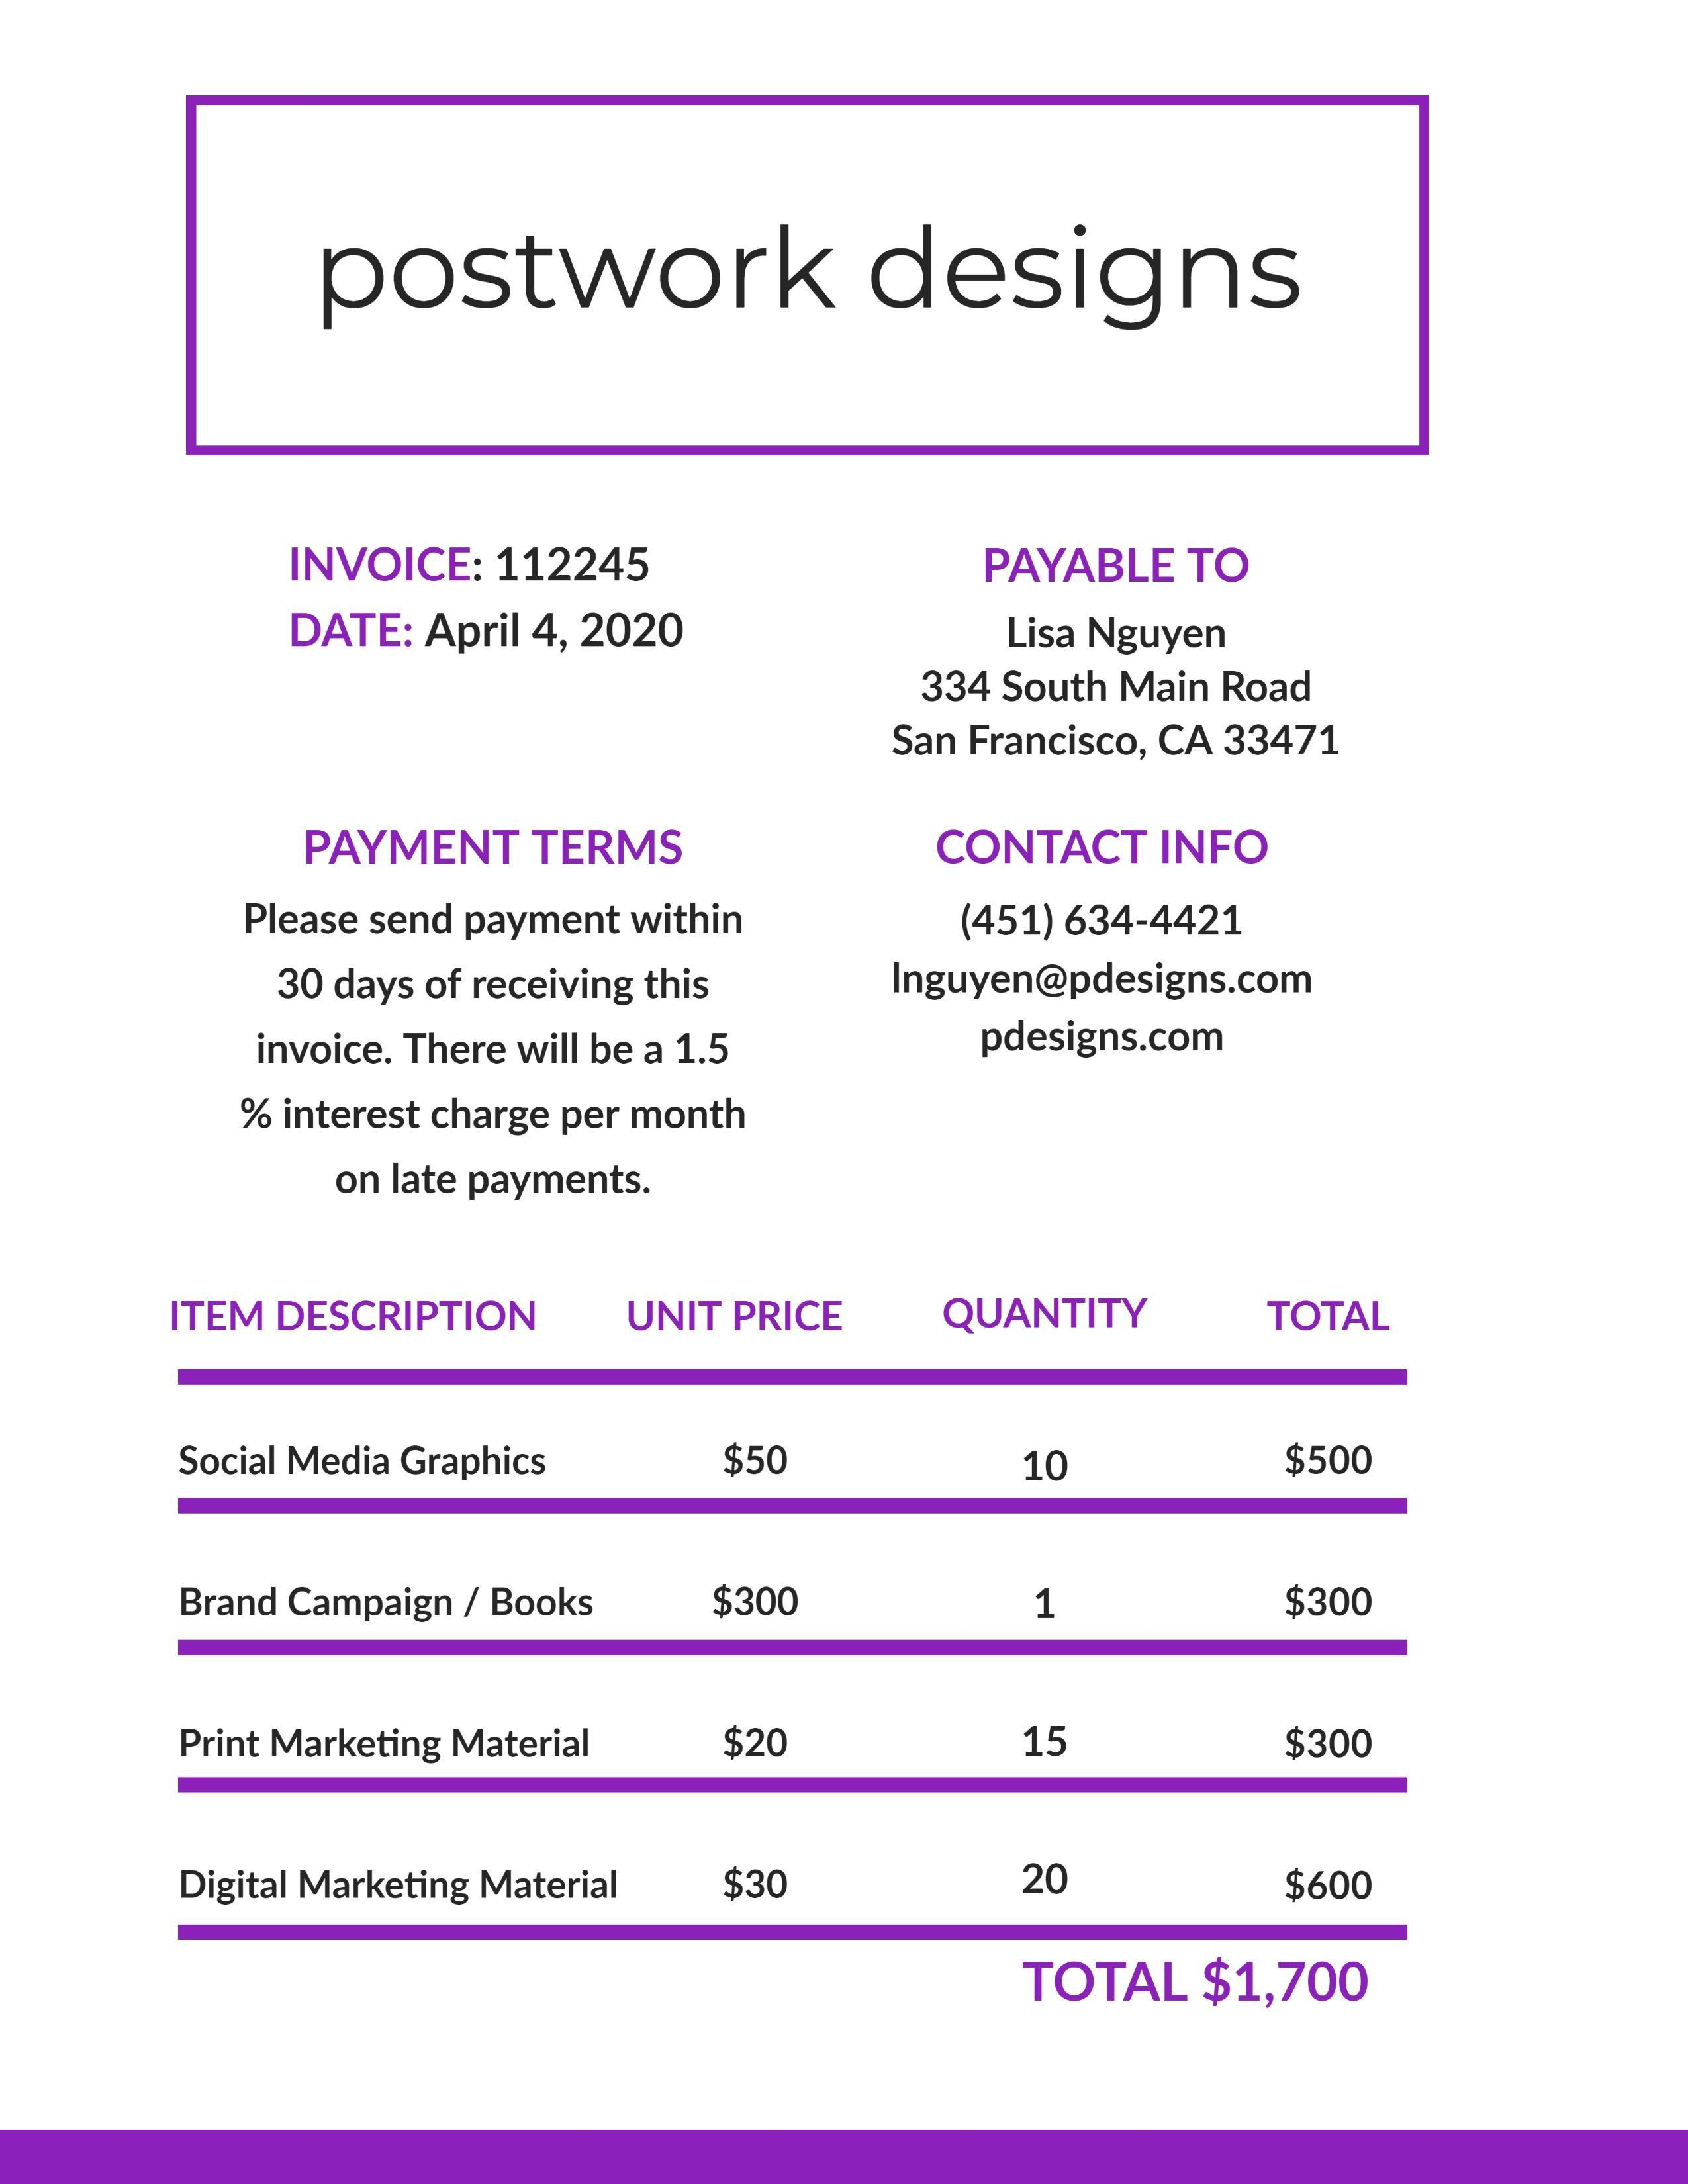ROI: (154, 1292, 1433, 1941), (225, 801, 812, 1221), (298, 206, 1323, 358), (876, 539, 1358, 773), (277, 528, 729, 670), (993, 1952, 1434, 2042)
